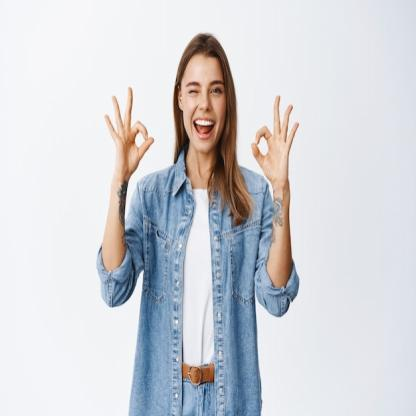ok: (250, 91, 301, 188), (102, 87, 155, 179)
